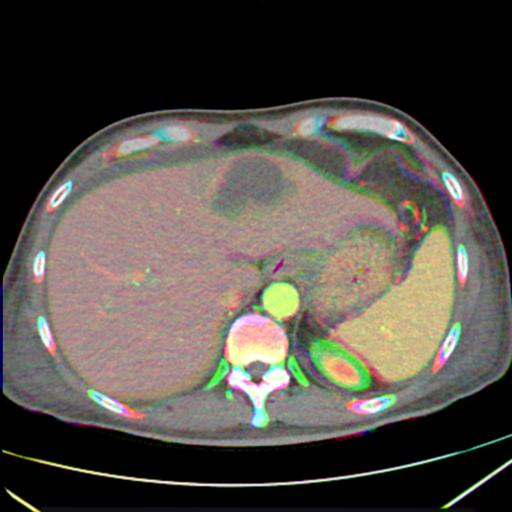Tumor: (211, 155, 286, 215)
